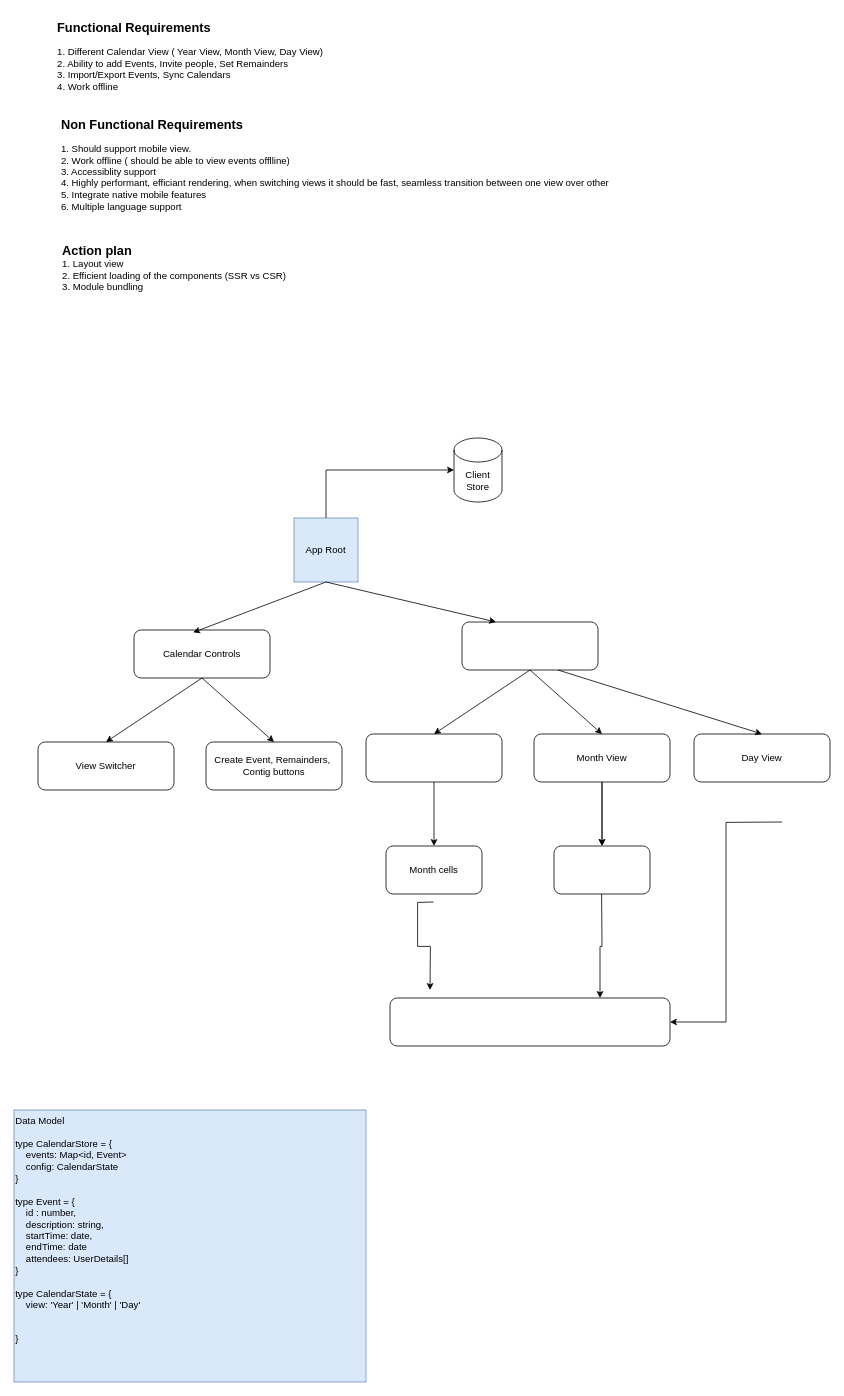
Some shapes in this 844 by 1396 pixel diagram are drawn without their labels. The box of each missing label's shape, as (x1, y1, x2, y2) in pixels:
Calendar View: (461, 621, 598, 670)
Days cells: (553, 845, 650, 894)
Event View: (389, 997, 670, 1046)
Year View: (365, 733, 502, 782)
